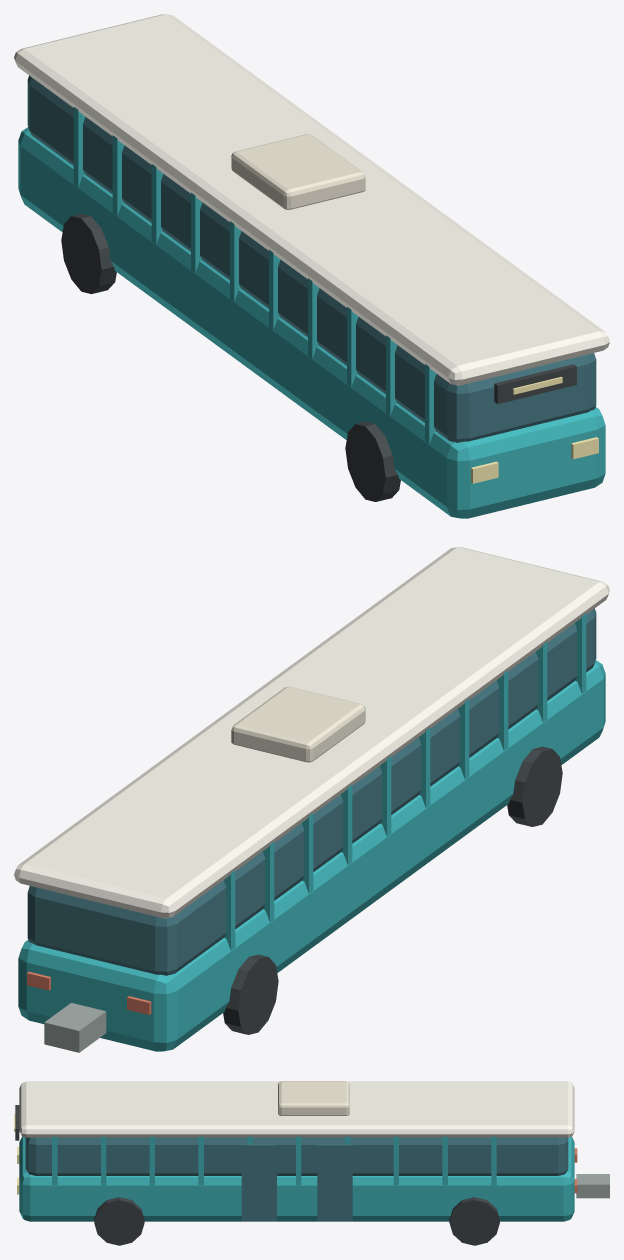
Rendered from metro.glb.
The picture shows the model from 3 angles, top to bottom: view 1: azimuth 30°, elevation 25°; view 2: azimuth 150°, elevation 25°; view 3: azimuth 270°, elevation 25°; orthographic projection. The views are drawn at different scales.
Visible parts, largest first — view 1: metro; view 2: metro; view 3: metro.
Part boxes in pixels (<box>): metro: <box>14,14,609,518</box>; metro: <box>14,547,609,1052</box>; metro: <box>14,1081,609,1245</box>.
Size of the model in its own units: 1.52 by 1.66 by 7.09.
